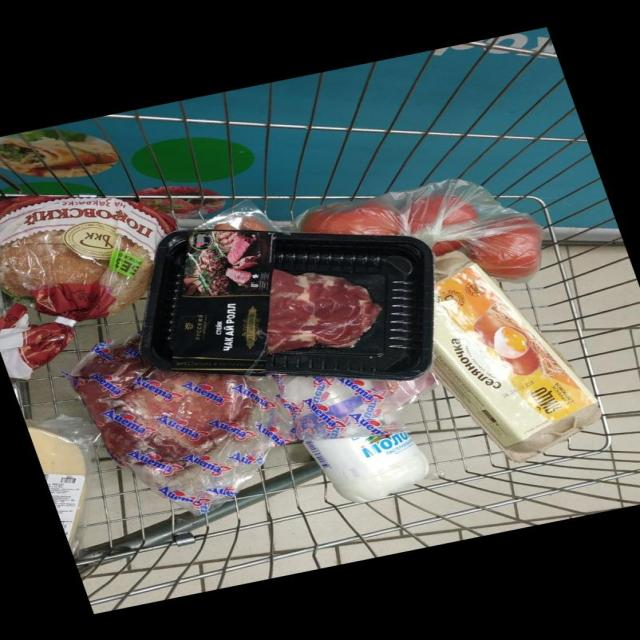cheese: (41, 267, 123, 640)
egg: (278, 179, 640, 455)
milk: (151, 218, 458, 640)
tomato: (239, 122, 640, 361), (236, 113, 640, 347), (244, 105, 640, 300), (140, 113, 463, 346)
